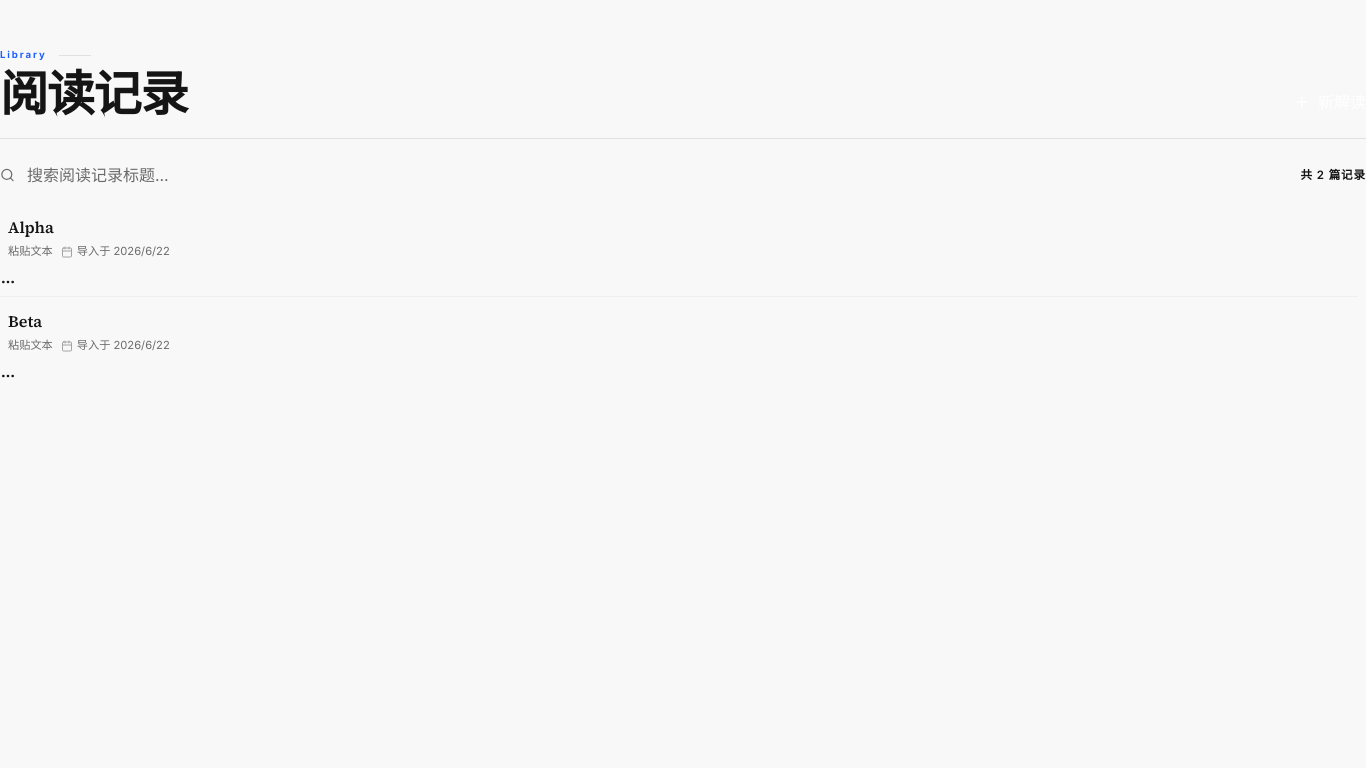
Test: LibraryClient delete lifecycle › removes the deleted record from the list and count immediately
Expected: the text "Alpha" is shown, left=8, top=216, right=54, bottom=238
Expected: the text "共 2 篇记录" is shown, left=1300, top=167, right=1365, bottom=184
Click the button named "打开“Alpha”的操作菜单". click: [8, 282]
box: left=0, top=274, right=16, bottom=290
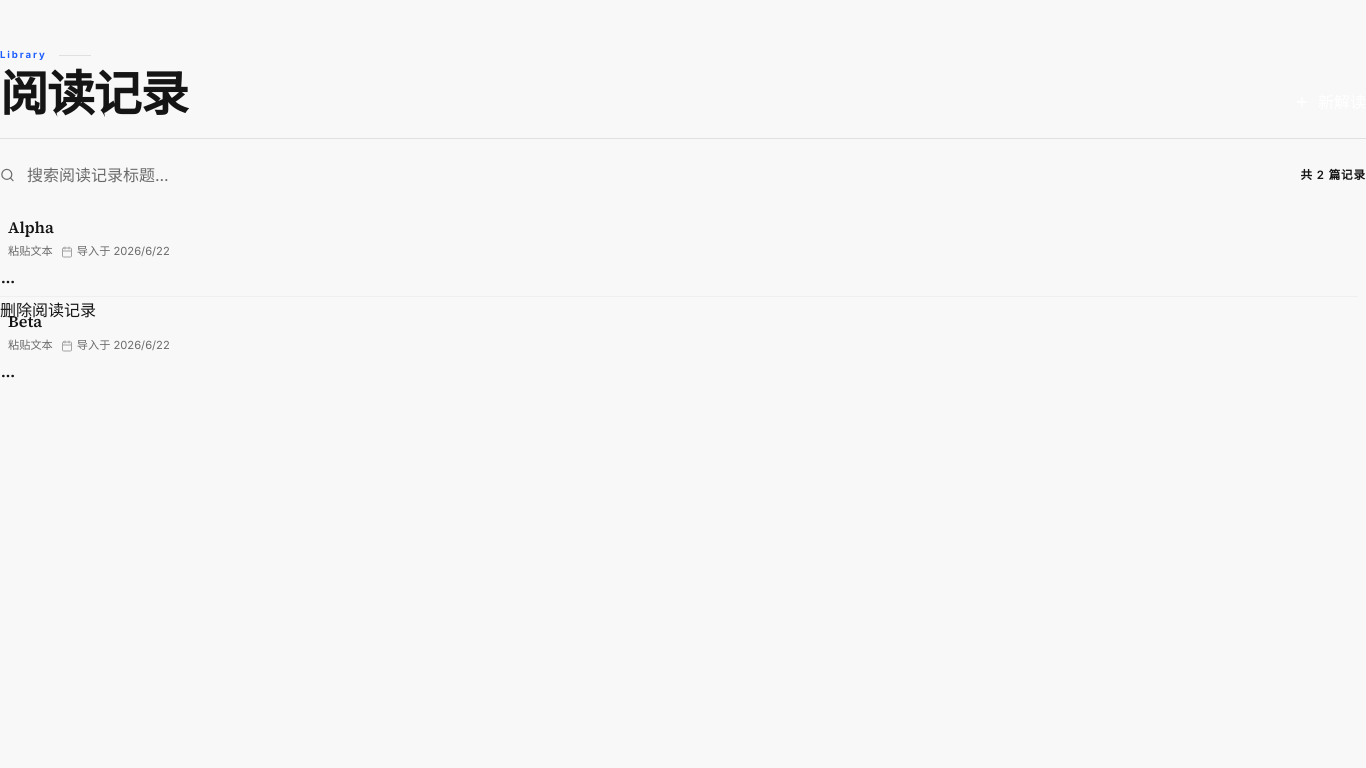
Result: the menu is shown
Click the menu item "删除阅读记录". click: [48, 310]
box: left=0, top=298, right=96, bottom=322
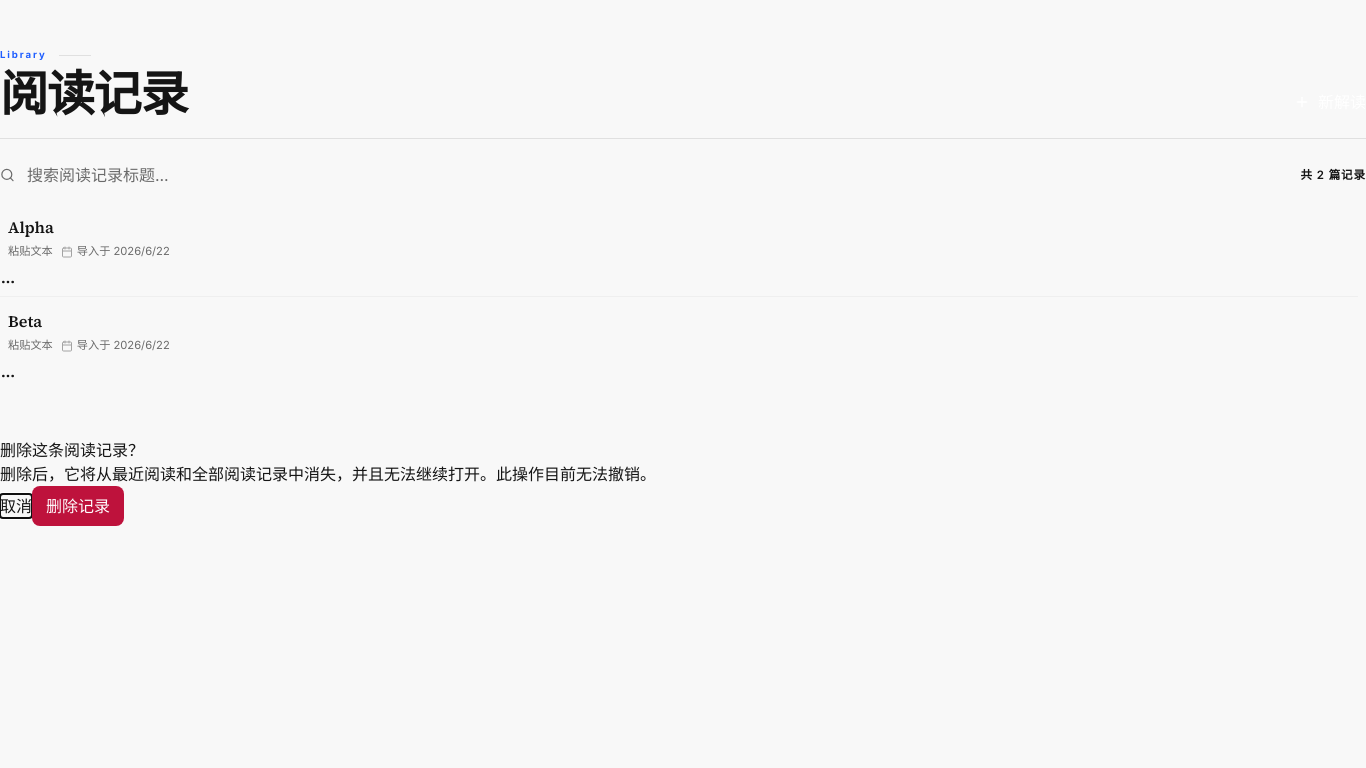
Result: the dialog is shown at left=0, top=440, right=656, bottom=526
Click the button "删除记录". click: [78, 506]
box: left=32, top=486, right=124, bottom=526
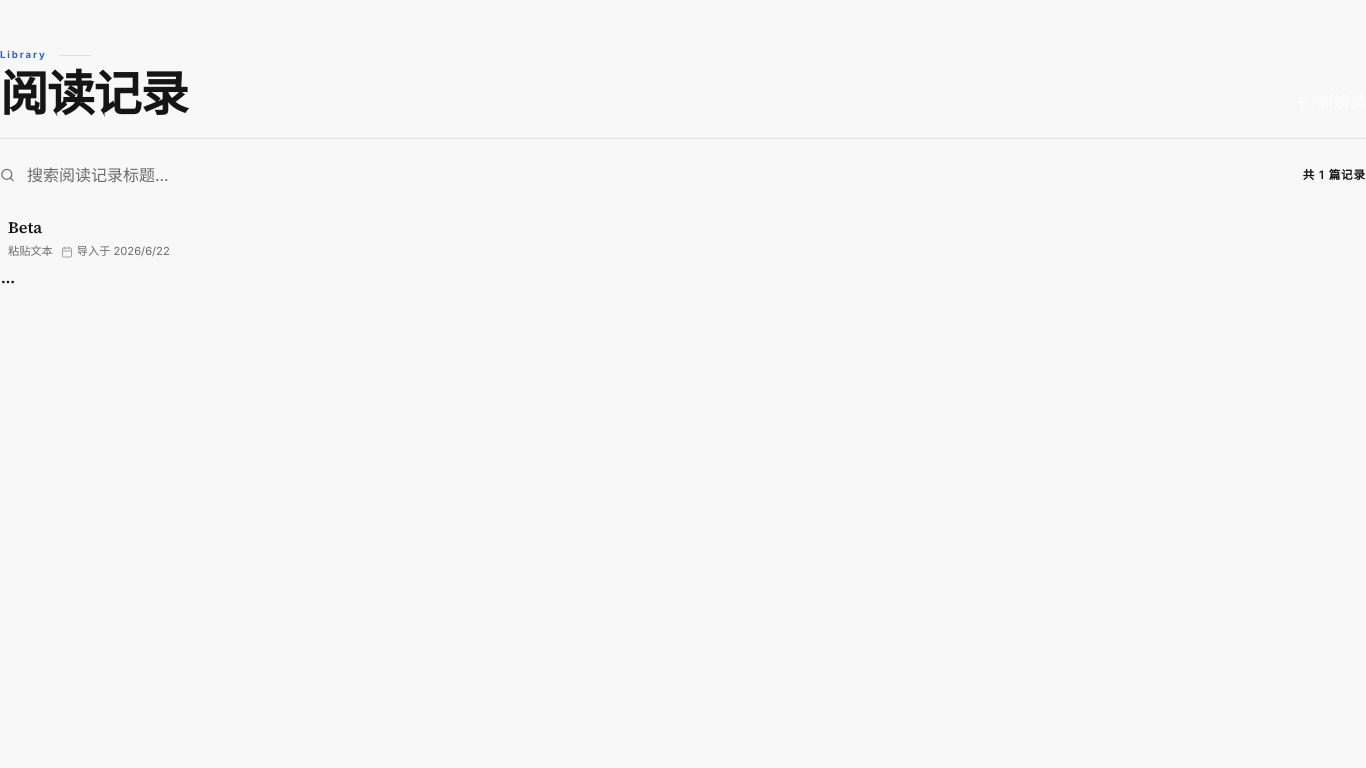
Expected: the text "Beta" is shown, left=8, top=216, right=42, bottom=238
Result: the link "Alpha" is gone
Result: the text "共 1 篇记录" is shown at left=1303, top=167, right=1365, bottom=184
